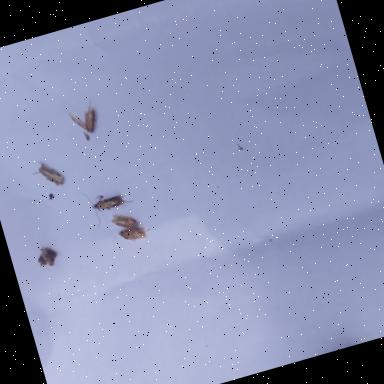pbw: (80, 180, 138, 230), (65, 97, 103, 138), (28, 156, 66, 194), (117, 222, 153, 246), (110, 209, 139, 233)
